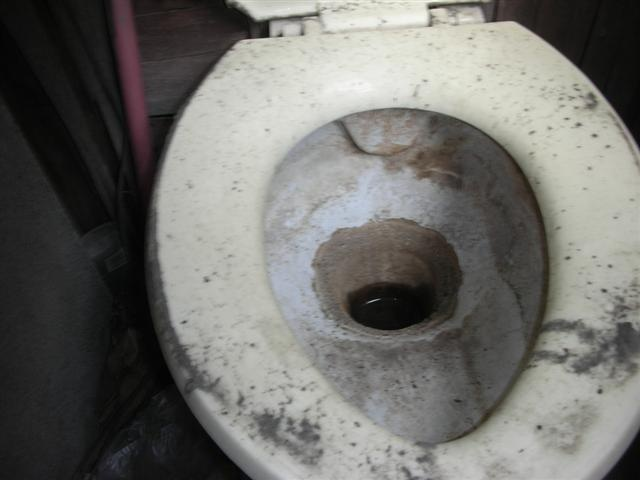toilet: (142, 1, 640, 480)
